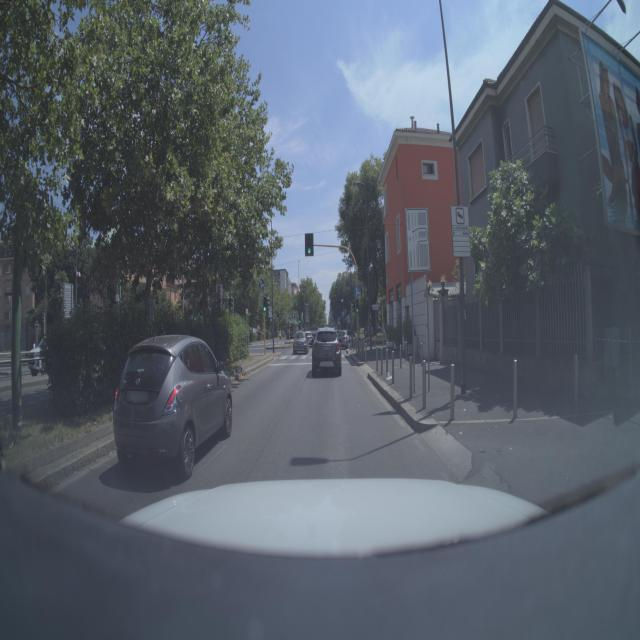green_light: (300, 228, 320, 262)
